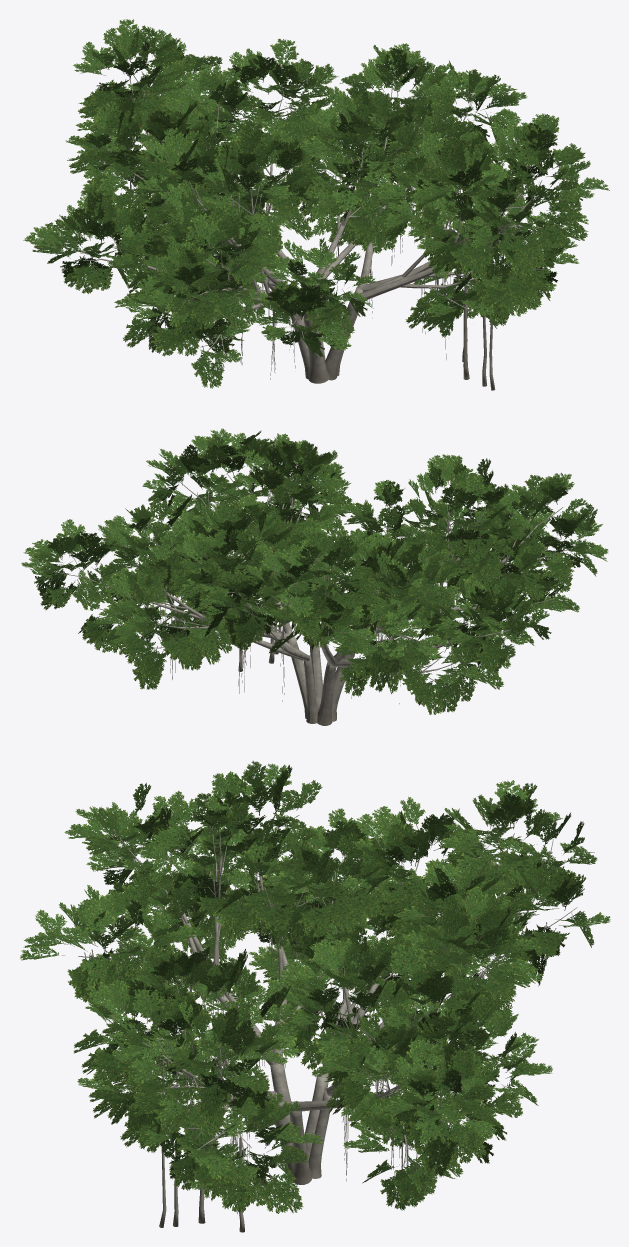
The model's file is Gajumaru.gltf.
The picture shows the model from 3 angles, top to bottom: view 1: azimuth 30°, elevation 25°; view 2: azimuth 150°, elevation 25°; view 3: azimuth 270°, elevation 25°; orthographic projection. The views are drawn at different scales.
Visible parts, largest first — view 1: Gajumaru; view 2: Gajumaru; view 3: Gajumaru.
Part boxes in pixels (left/top/right/bottom): Gajumaru: left=23, top=19, right=609, bottom=390; Gajumaru: left=21, top=428, right=608, bottom=725; Gajumaru: left=20, top=761, right=610, bottom=1232.
Bounding box in the file's own units: 19.8 × 10.63 × 17.04.
Materials: 2 (2 with a texture image).
